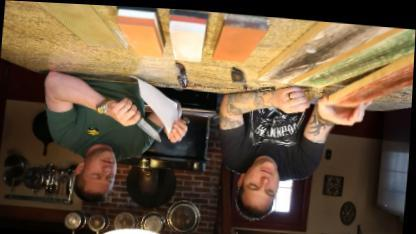knife: (111, 97, 168, 145)
